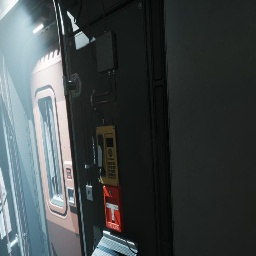EmergencyPhone ,: (91, 110, 121, 186)
FireAlarm ,: (103, 184, 124, 232)
SafetySwitchPanel ,: (0, 160, 12, 240)
